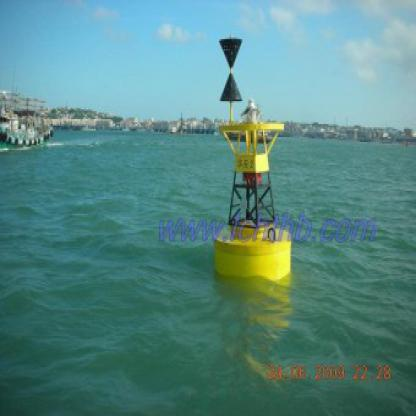buoy: (212, 90, 297, 288)
